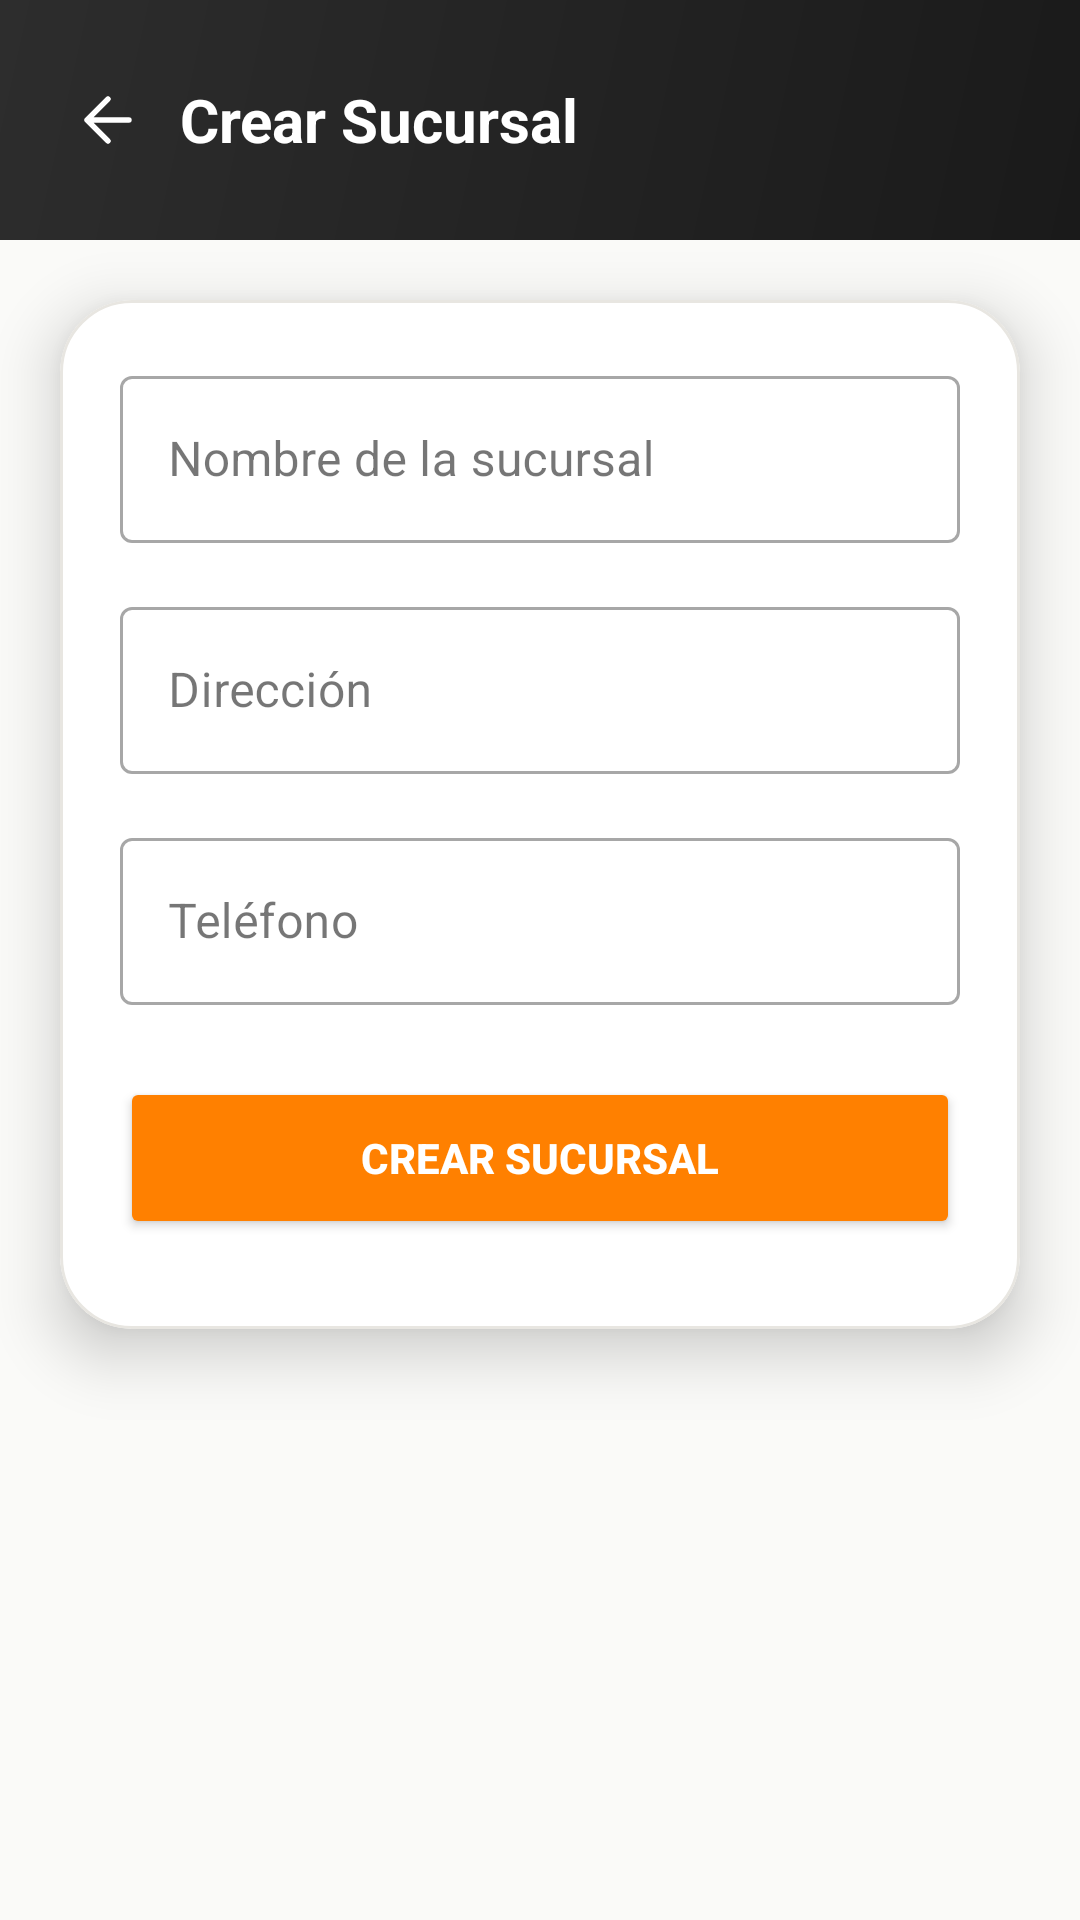

Icons on this 1080 × 1920 Android screen, each with its box as [left=x1, top=y1, right=x2, bottom=y2]:
Volver: [left=84, top=96, right=132, bottom=144]
